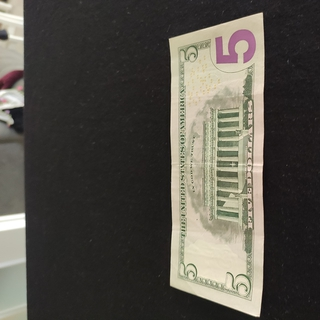5USDBack: (168, 12, 265, 318)
